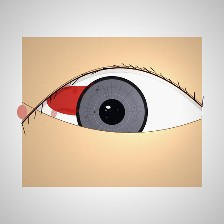hemorrhage_spot: (34, 65, 124, 137)
